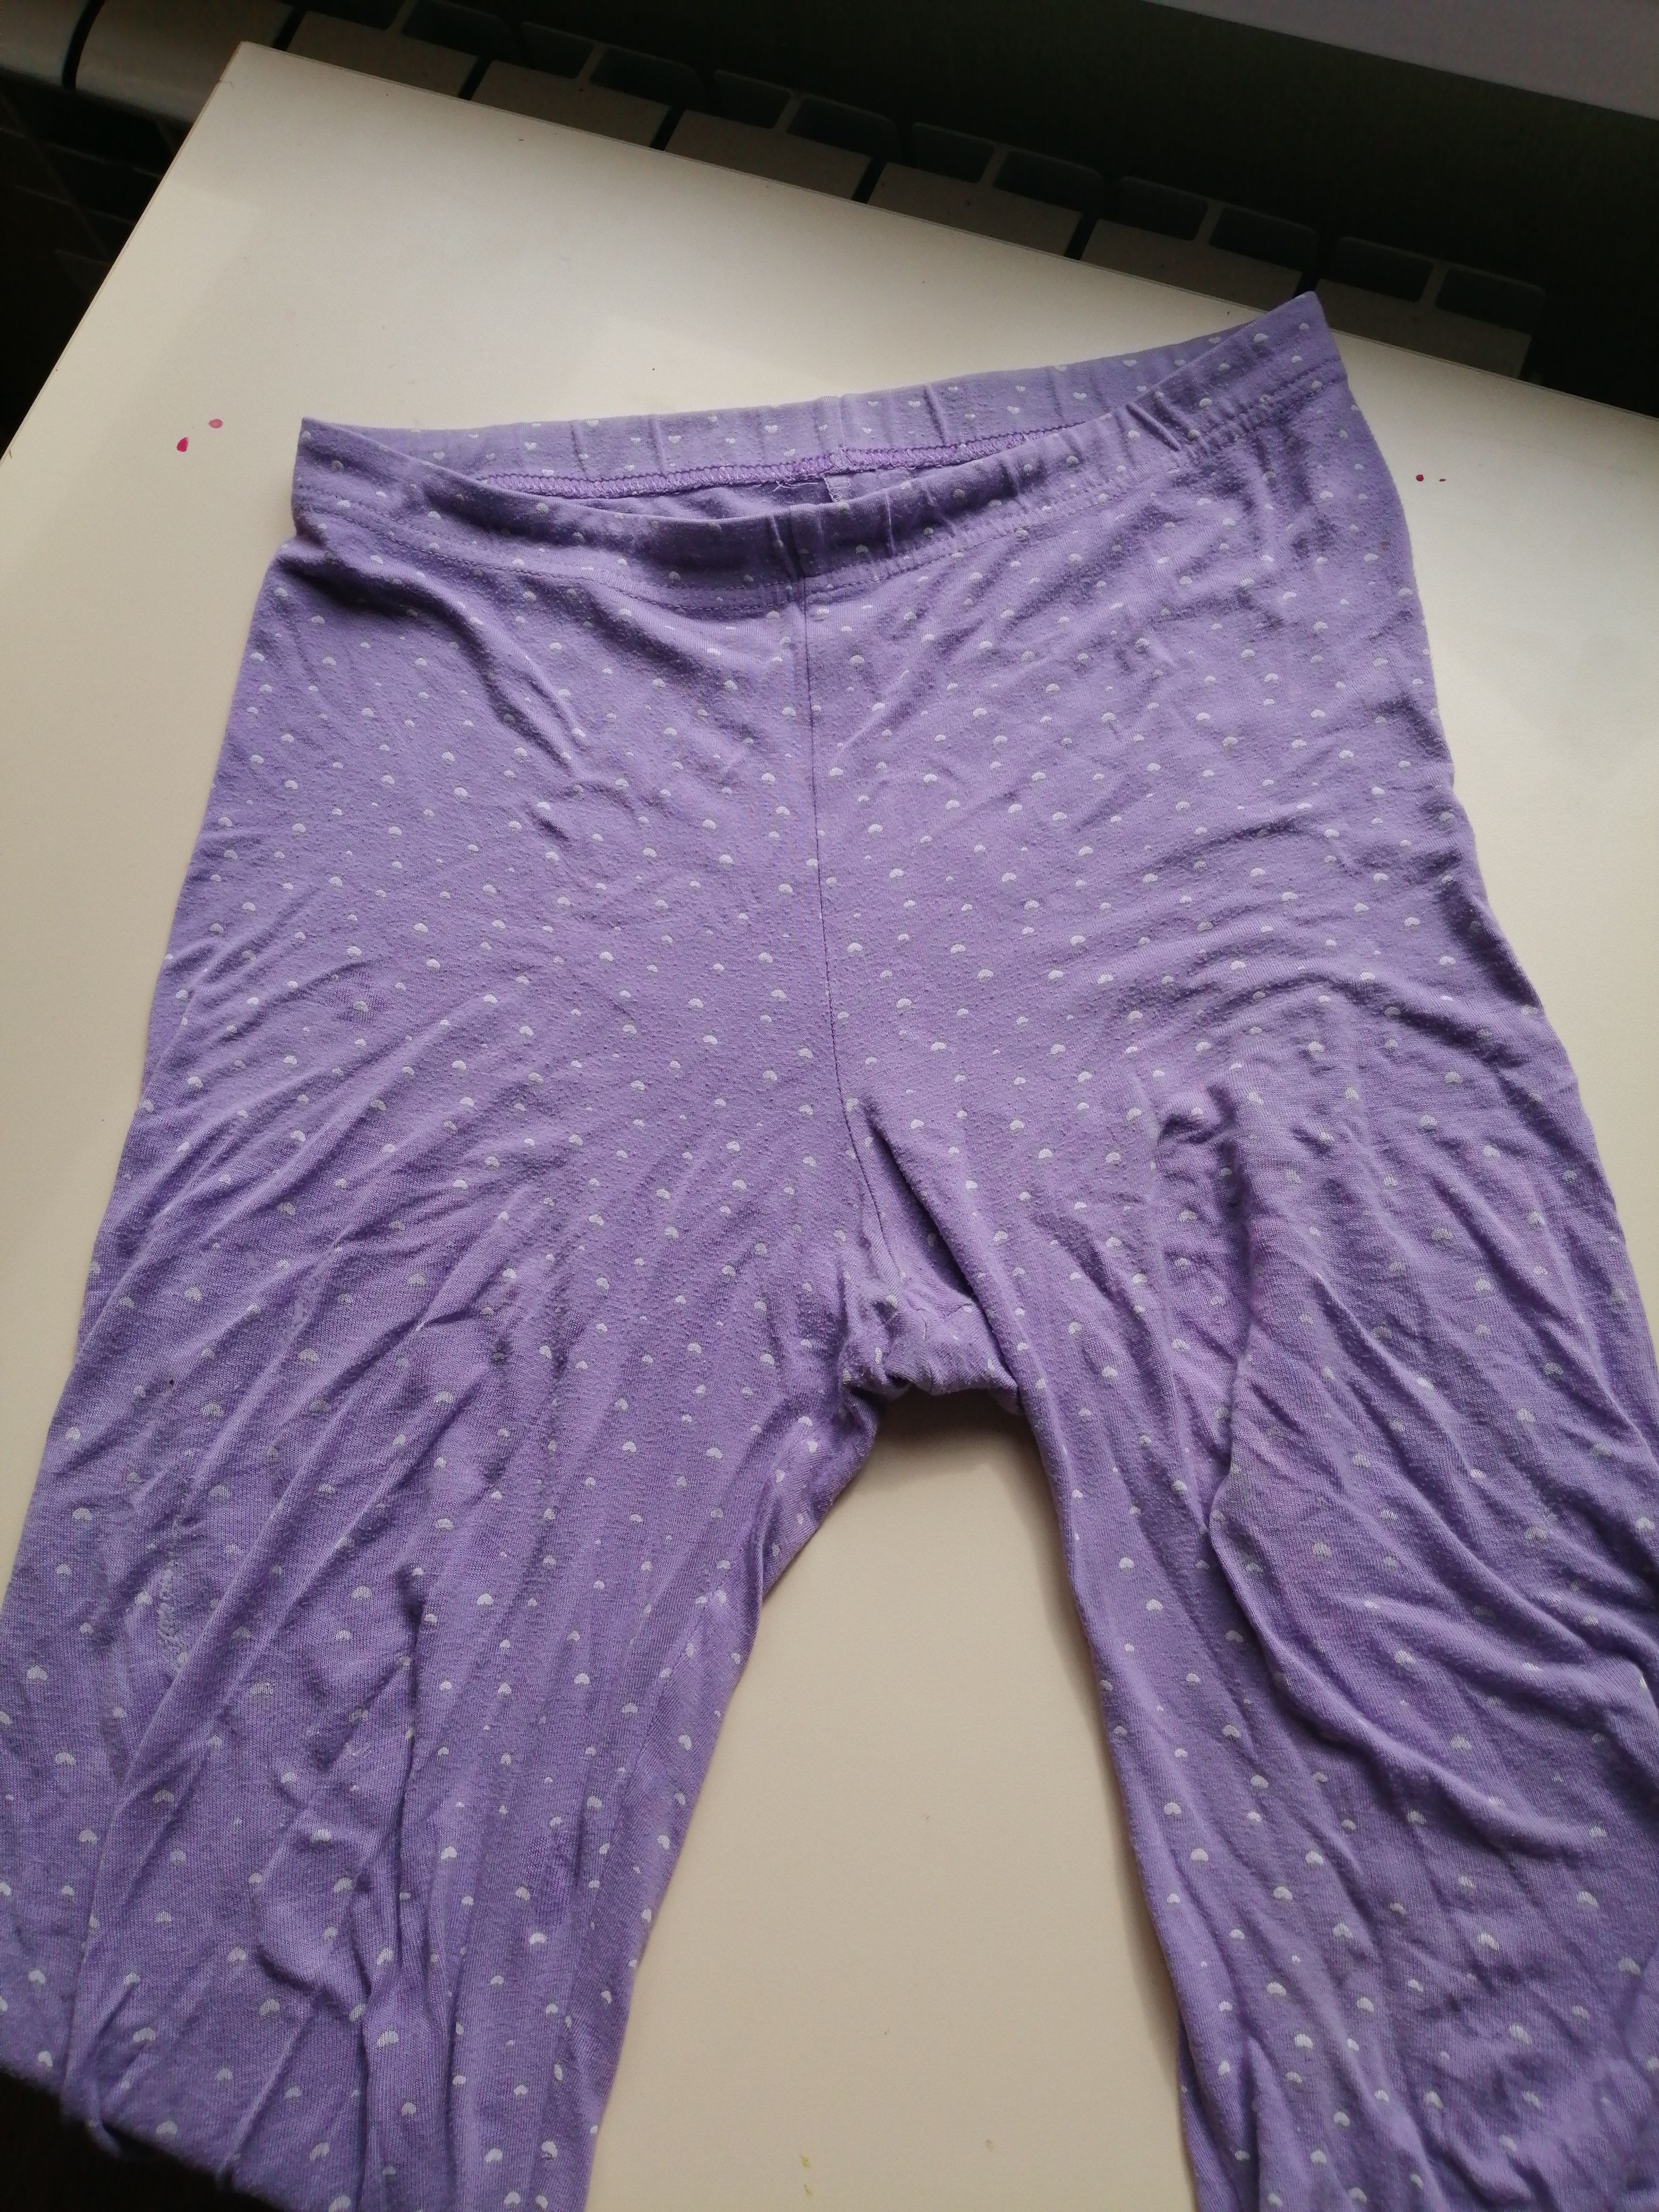clothes: (16, 284, 1659, 2212)
